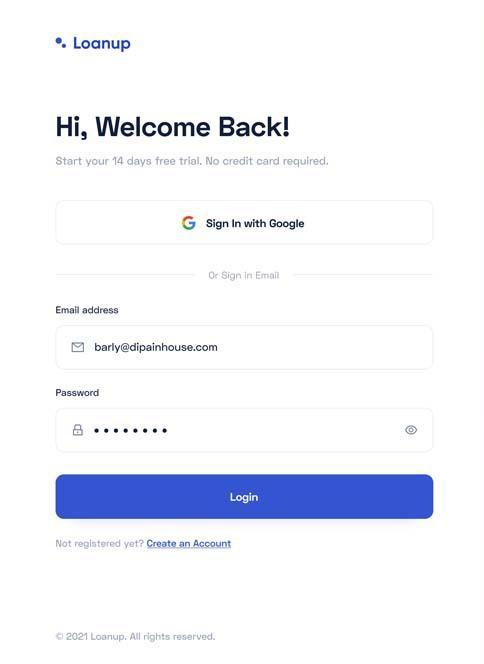button: (51, 198, 438, 247), (53, 474, 436, 522)
input: (51, 404, 438, 459), (54, 323, 438, 375)
label: (53, 112, 294, 144), (54, 156, 337, 169), (57, 538, 234, 552), (51, 632, 217, 645), (208, 271, 284, 284), (73, 37, 132, 53), (53, 306, 124, 318), (52, 388, 102, 400)
